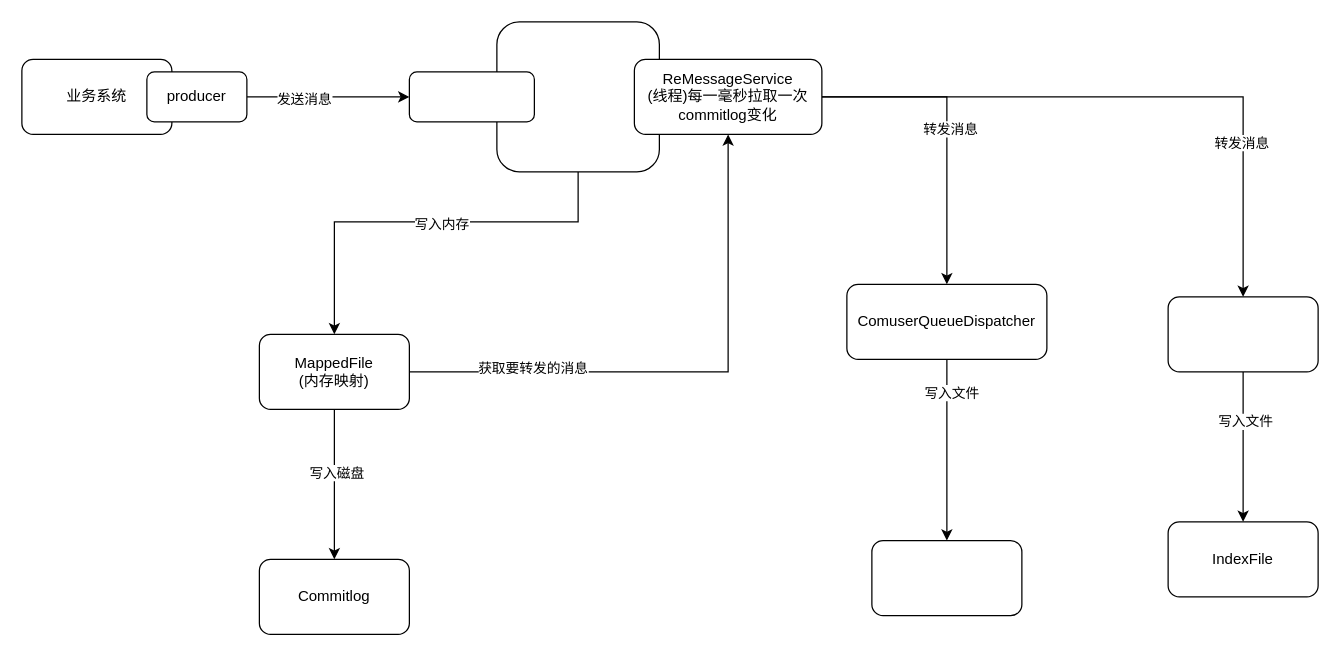
This 1340x656 diagram has some shape labels left out. The centre of each missing label's shape, as x and y in pixels:
broker: the point at 577,96
ComuserQueue: the point at 946,577
IndexDispatcher: the point at 1242,334
messageQueue: the point at 471,96
